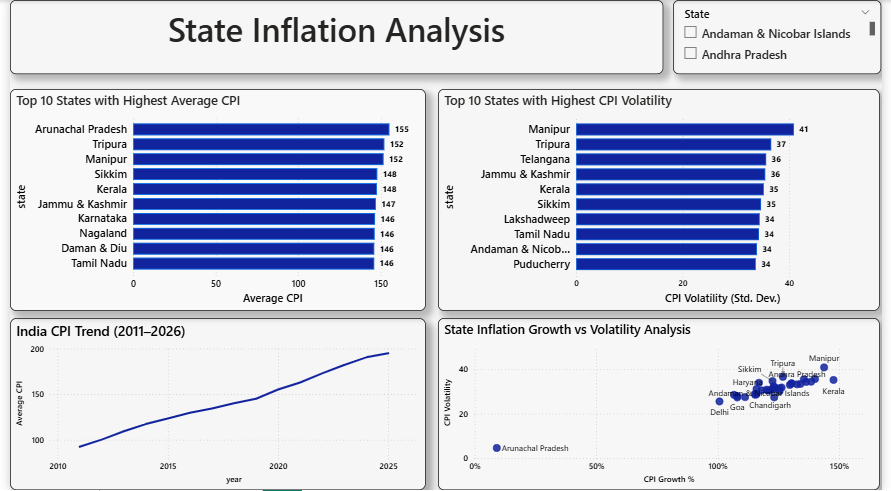

Layout of this report page (visuals, bound fields, positions):
{"tool":"powerbi","page":{"name":"State Inflation analysis","canvas":[1280,720],"ordinal":1},"visuals":[{"type":"clusteredBarChart","title":"Top 10 States with Highest CPI Volatility","fields":{"Category":["clean_cpi_data.state"],"Y":["clean_cpi_data.CPI Volatility"]},"box":[628.9,130.8,649.5,326.2],"z":0},{"type":"clusteredBarChart","title":"Top 10 States with Highest Average CPI","fields":{"Category":["clean_cpi_data.state"],"Y":["clean_cpi_data.Average CPI"]},"box":[0,130.8,611.3,326.2],"z":1000},{"type":"textbox","box":[0,0,959.5,108.7],"z":2000},{"type":"slicer","fields":{"Values":["clean_cpi_data.state"]},"box":[974.2,0,305.6,108.7],"z":3000},{"type":"lineChart","title":"India CPI Trend (2011–2026)","fields":{"Category":["clean_cpi_data.year"],"Y":["clean_cpi_data.Average CPI"]},"box":[0,467.3,611.3,252.7],"z":4000},{"type":"scatterChart","title":"State Inflation Growth vs Volatility Analysis","fields":{"X":["clean_cpi_data.CPI Growth %"],"Y":["clean_cpi_data.CPI Volatility"],"Category":["clean_cpi_data.state"]},"box":[628.9,467.3,649.5,252.7],"z":4001}]}

Visuals, with their boxes in screenshot pixels (x1, y1, x2, y2), scaled from the page's 1280x720 canvas onto the 891x491 screenshot:
"Top 10 States with Highest CPI Volatility" clusteredBarChart: bbox=(438, 89, 890, 312)
"Top 10 States with Highest Average CPI" clusteredBarChart: bbox=(0, 89, 426, 312)
textbox: bbox=(0, 0, 668, 74)
slicer - clean_cpi_data.state: bbox=(678, 0, 890, 74)
"India CPI Trend (2011–2026)" lineChart: bbox=(0, 319, 426, 490)
"State Inflation Growth vs Volatility Analysis" scatterChart: bbox=(438, 319, 890, 490)
